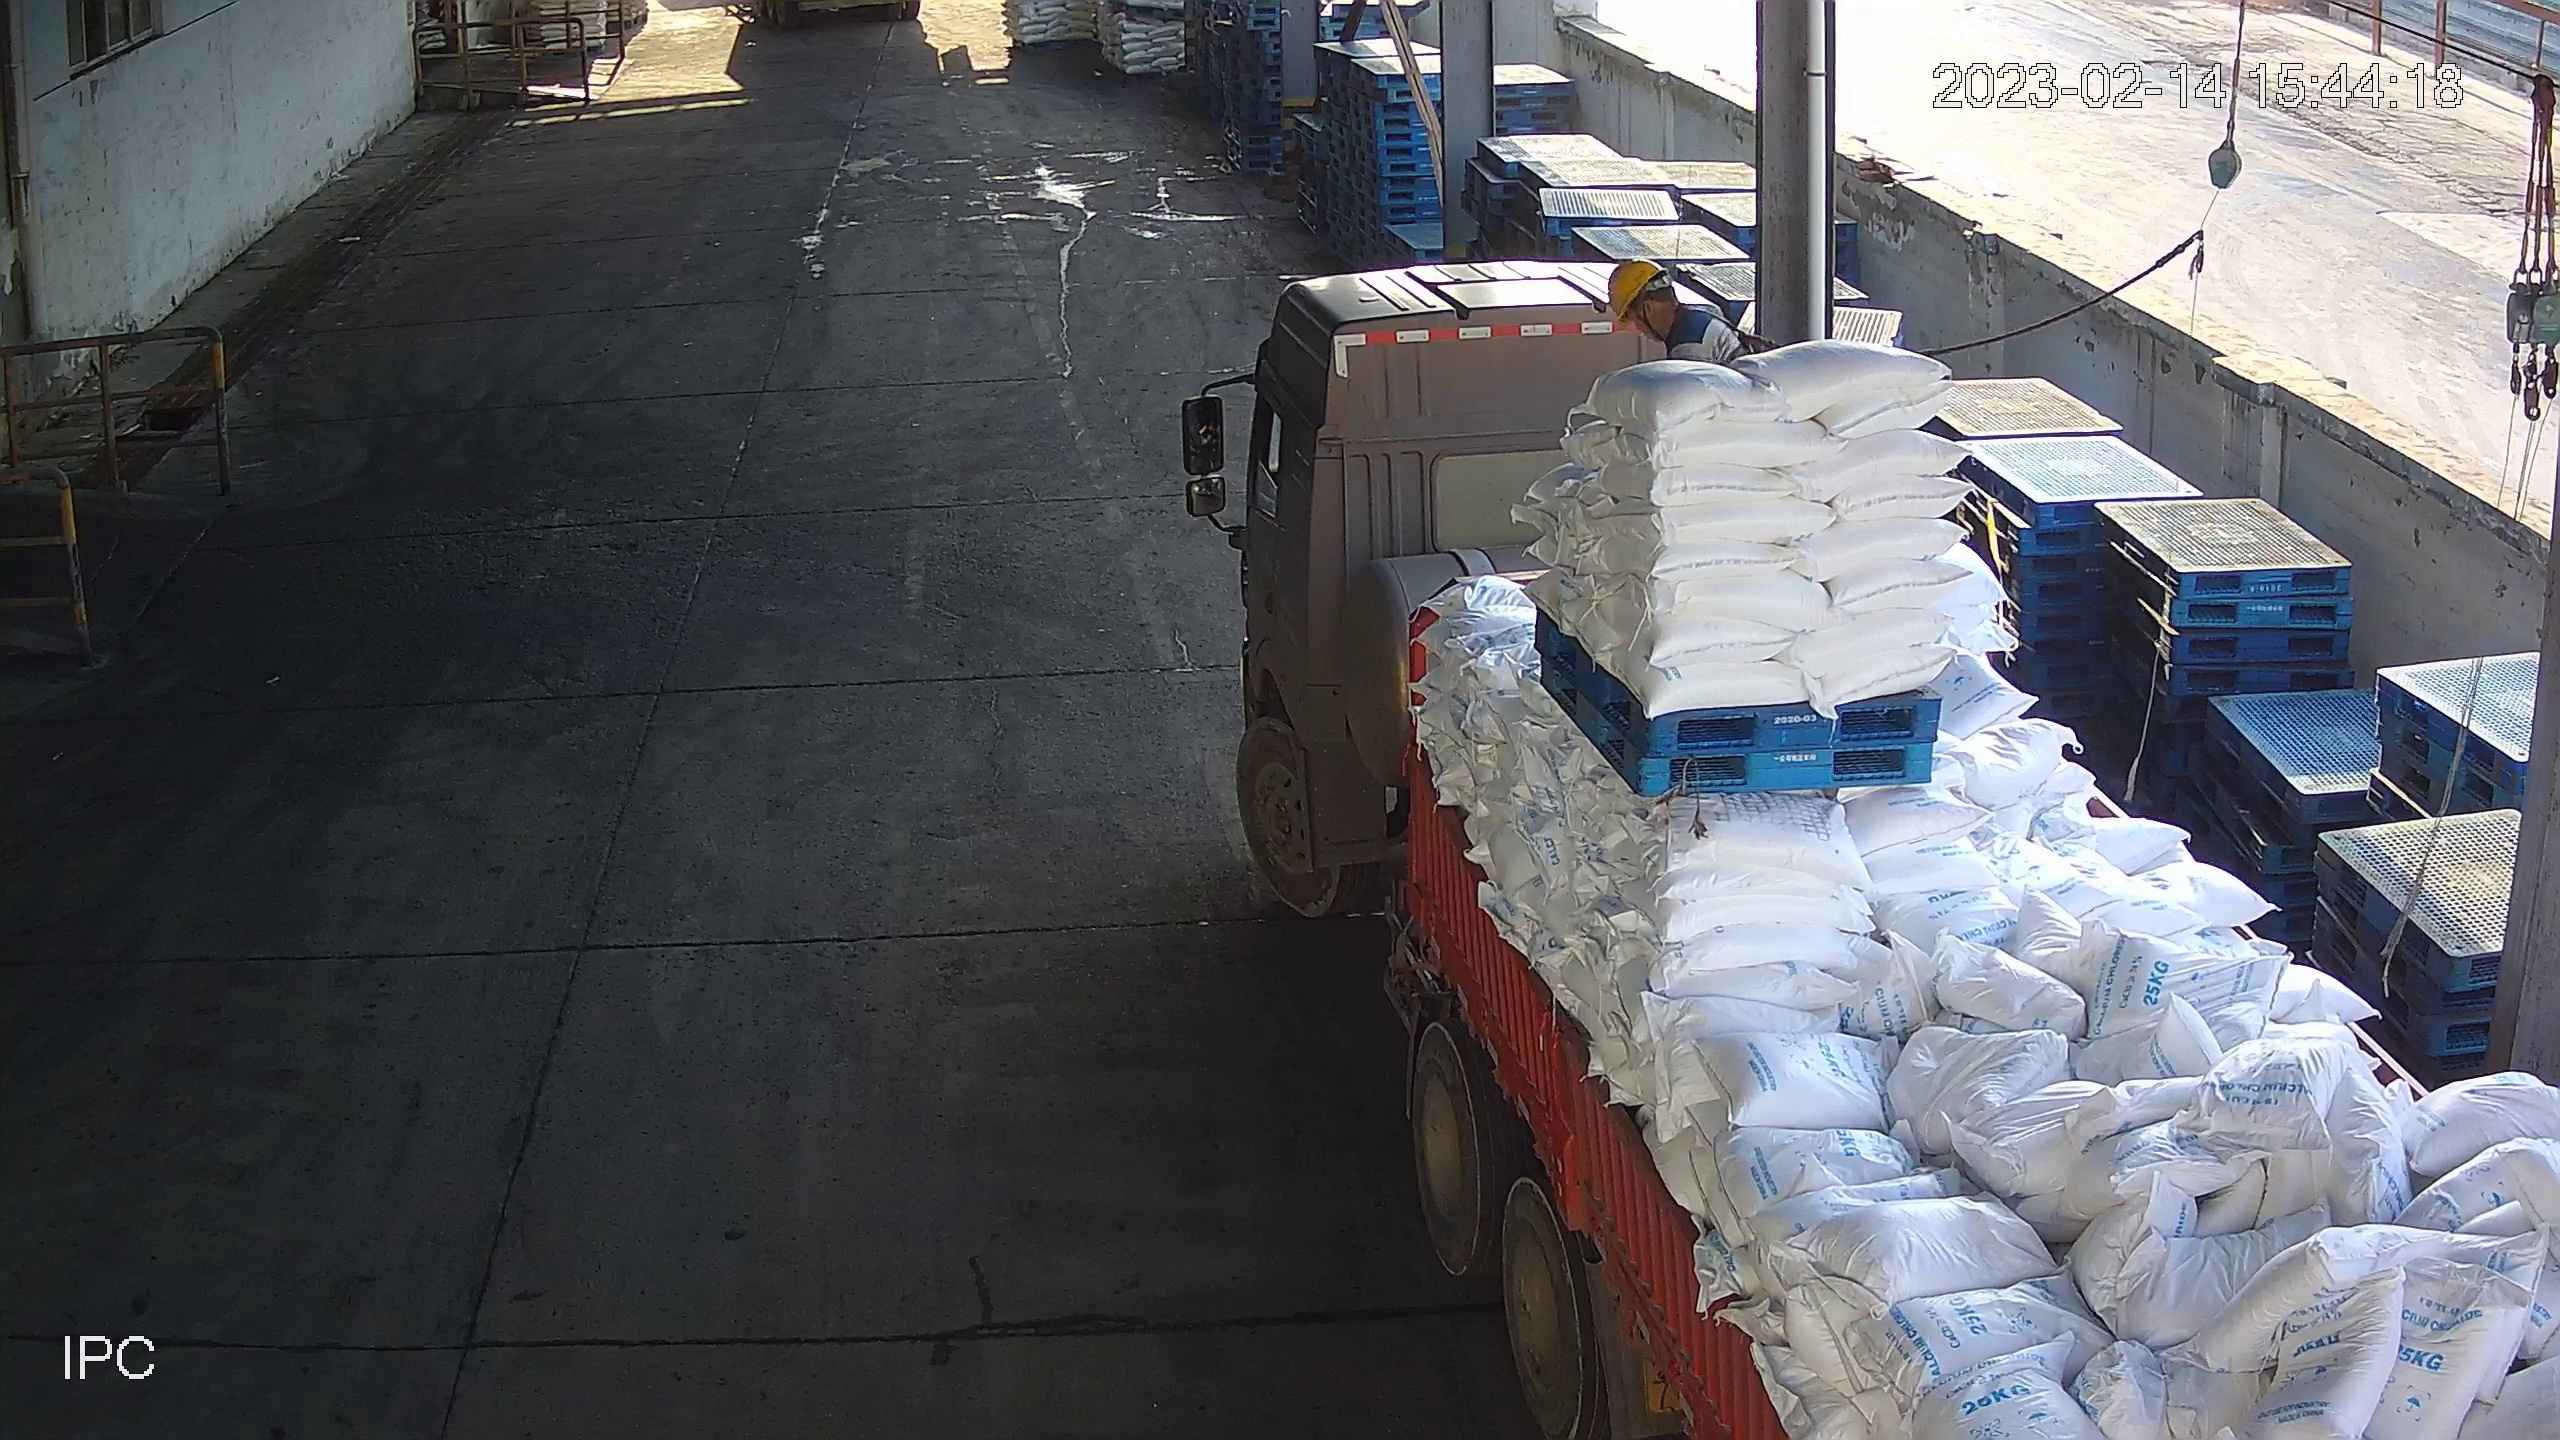belt: (1688, 308, 1762, 367)
head: (1602, 257, 1737, 357)
helmet: (1599, 264, 1665, 323)
truck: (1186, 258, 2560, 1440)
